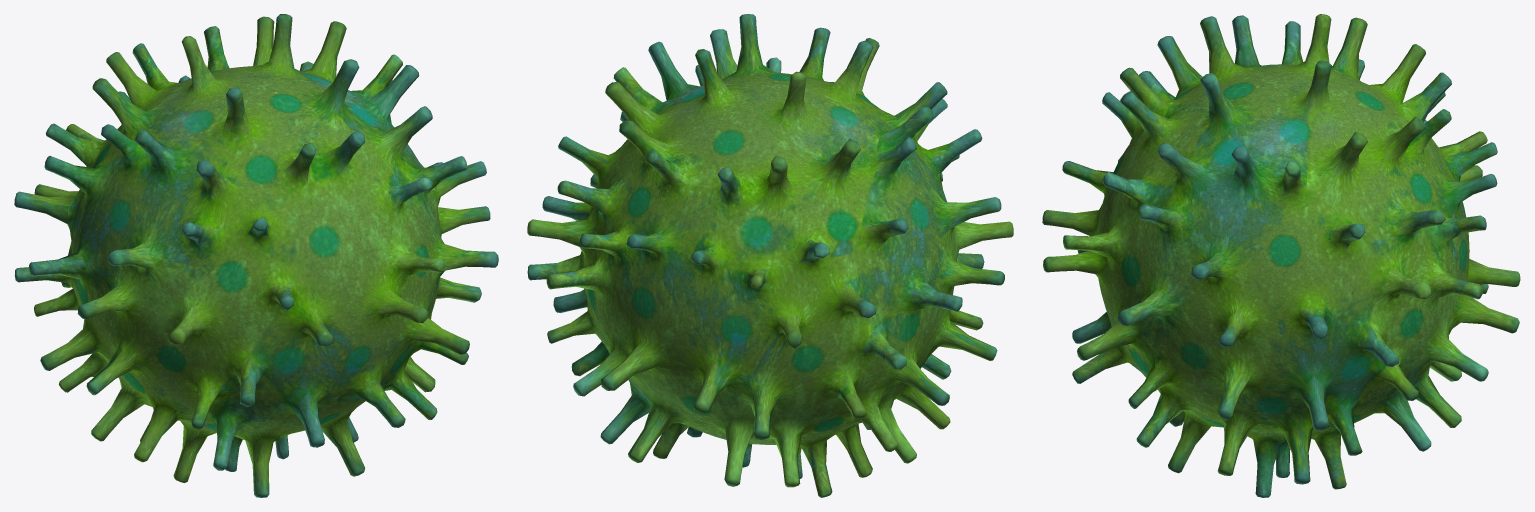
The model's file is virusText (1).fbx.
3 renders of one model, left to right at view 1: azimuth 30°, elevation 25°; view 2: azimuth 150°, elevation 25°; view 3: azimuth 270°, elevation 25°, orthographic.
Parts seen in each view (by area): view 1: Icosphere; view 2: Icosphere; view 3: Icosphere.
Part boxes in pixels (x1=…): Icosphere: x1=14, y1=14, x2=498, y2=497; Icosphere: x1=527, y1=14, x2=1013, y2=497; Icosphere: x1=1042, y1=14, x2=1520, y2=497.
Bounding box in the file's own units: 2 × 1.95 × 1.98.
Materials: 1 (1 with a texture image).
